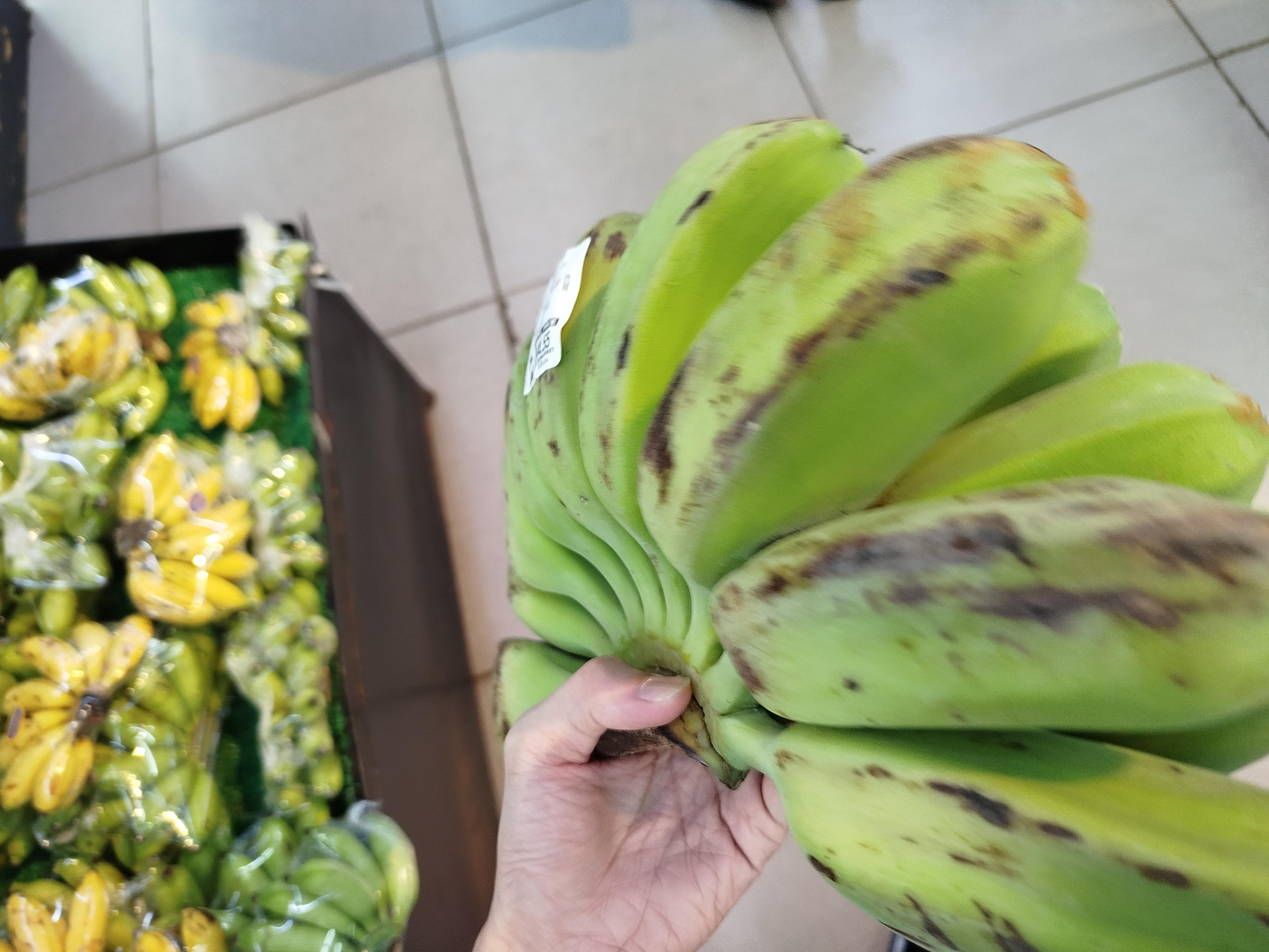underripe: (499, 119, 1269, 950)
